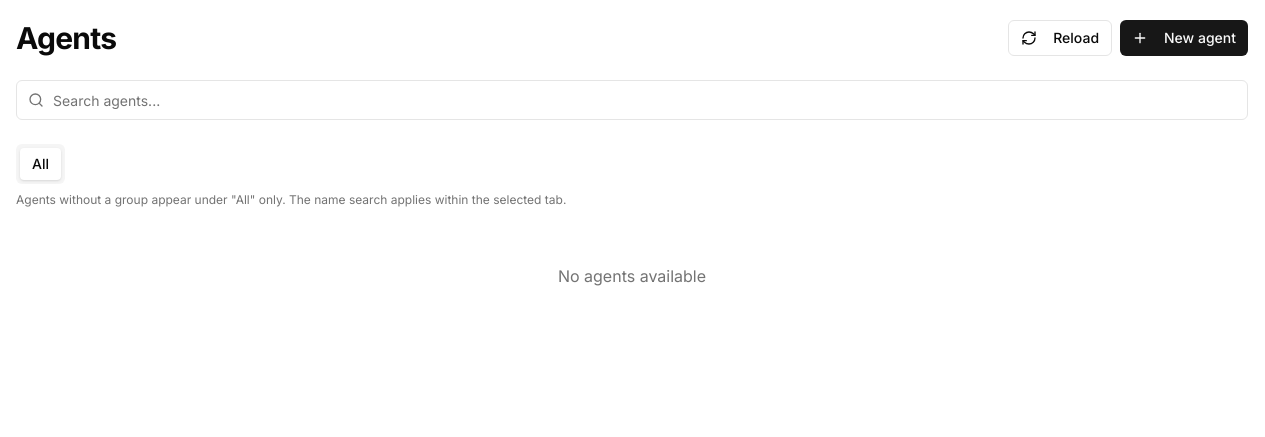
Test: AgentsPage reload result › lists only the change kinds that occurred, plus any load errors
Click the button "Reload": (1060, 38) [1008,20,1112,56]
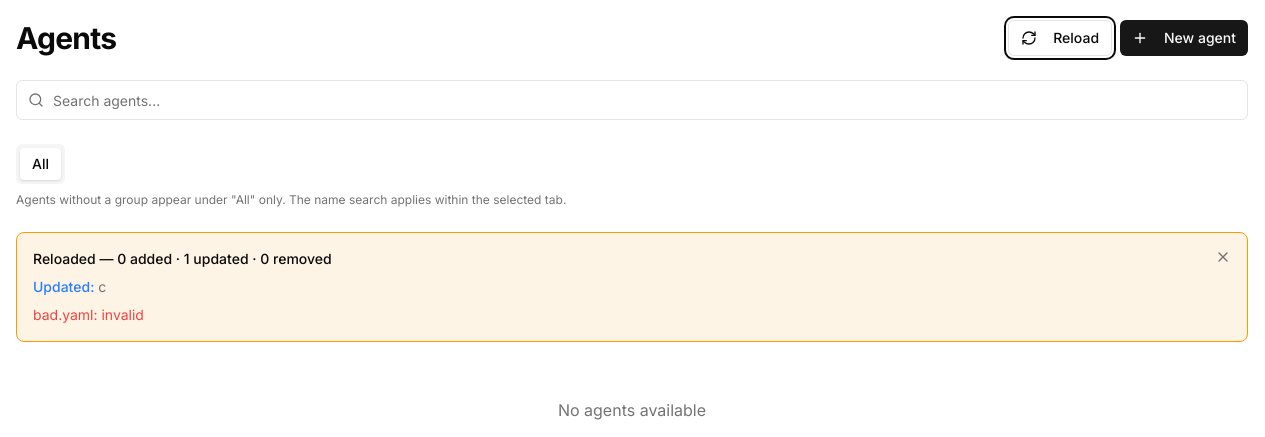
Expected: the text "Updated:" is shown, [33,278,94,295]
Expected: the text "bad.yaml: invalid" is shown, [33,306,144,323]
